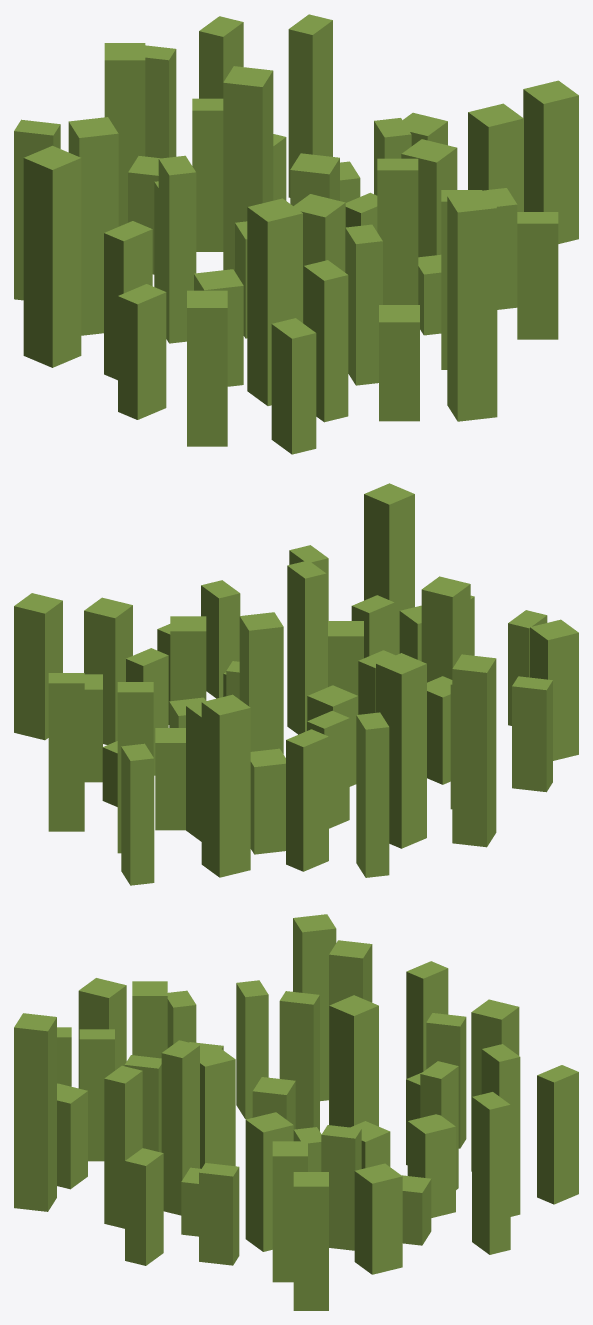
File: SM_Grass_01_D.fbx
The picture shows the model from 3 angles, top to bottom: view 1: azimuth 30°, elevation 25°; view 2: azimuth 150°, elevation 25°; view 3: azimuth 270°, elevation 25°; orthographic projection. The views are drawn at different scales.
Visible parts, largest first — view 1: polySurface42; view 2: polySurface42; view 3: polySurface42.
Part boxes in pixels (<box>): polySurface42: <box>14,14,578,454</box>; polySurface42: <box>14,483,578,885</box>; polySurface42: <box>14,914,578,1310</box>.
Bounding box in the file's own units: 60.21 × 22.45 × 63.67.
